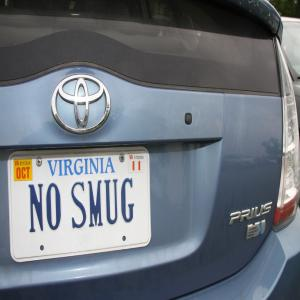Vehicle-registration-plate: (7, 147, 152, 264)
